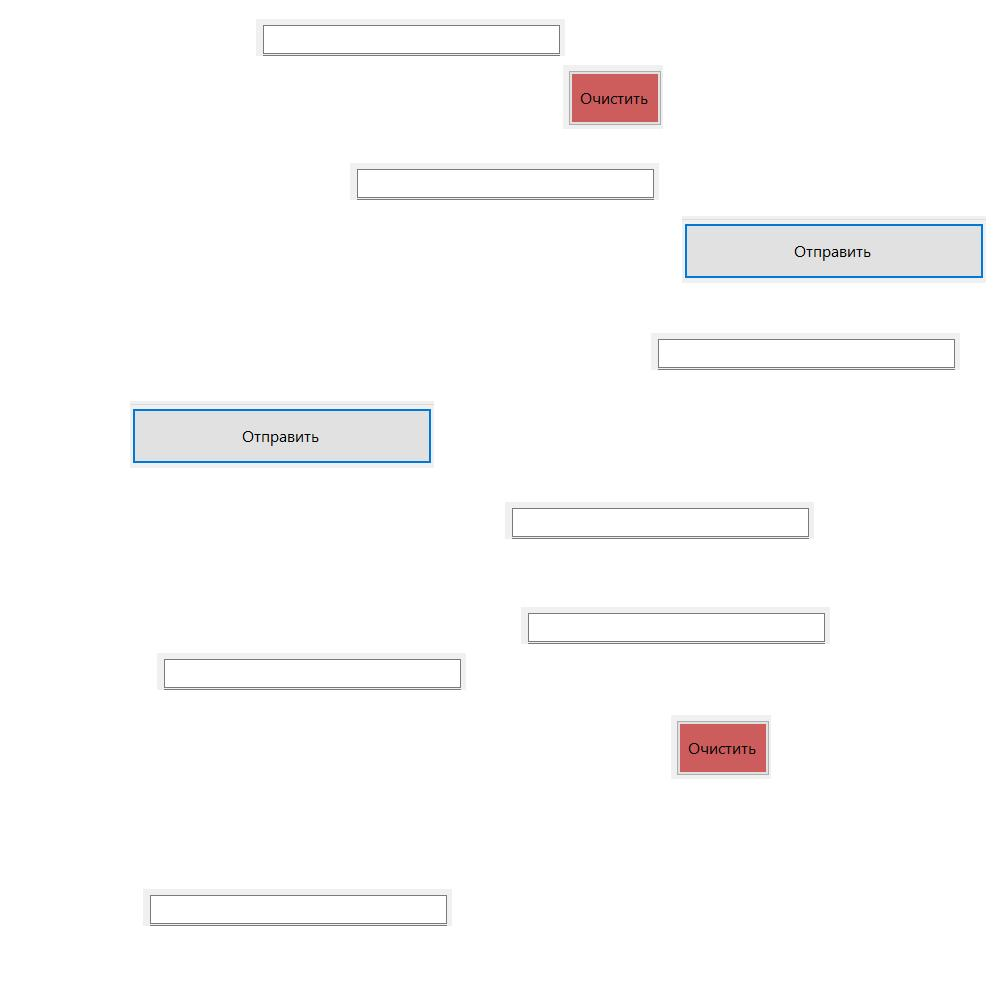Button: (682, 216, 986, 283), (130, 401, 434, 468), (563, 65, 663, 129), (671, 715, 771, 779)
EditText-: (521, 607, 830, 644), (651, 333, 960, 370), (350, 163, 659, 200), (256, 19, 565, 56), (505, 502, 814, 539), (143, 889, 452, 926), (157, 653, 466, 690)
